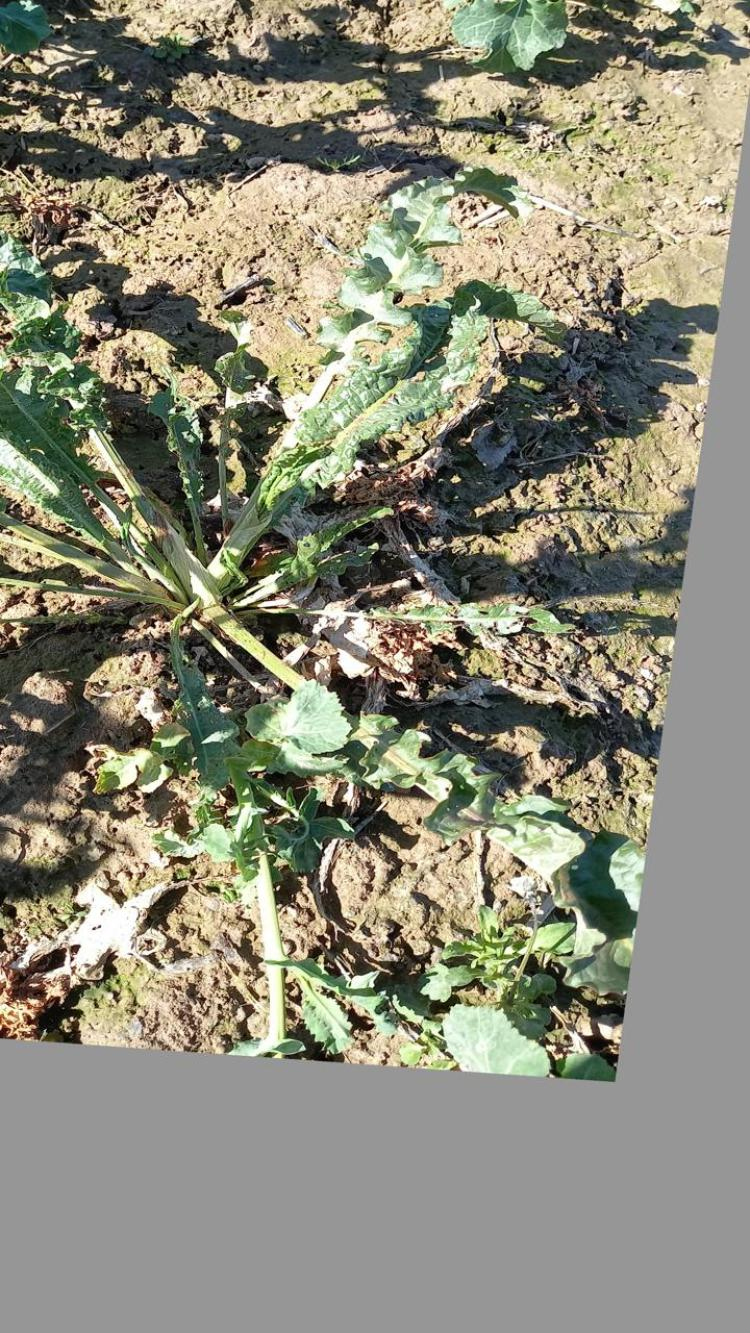zhavel: (0, 177, 565, 875)
